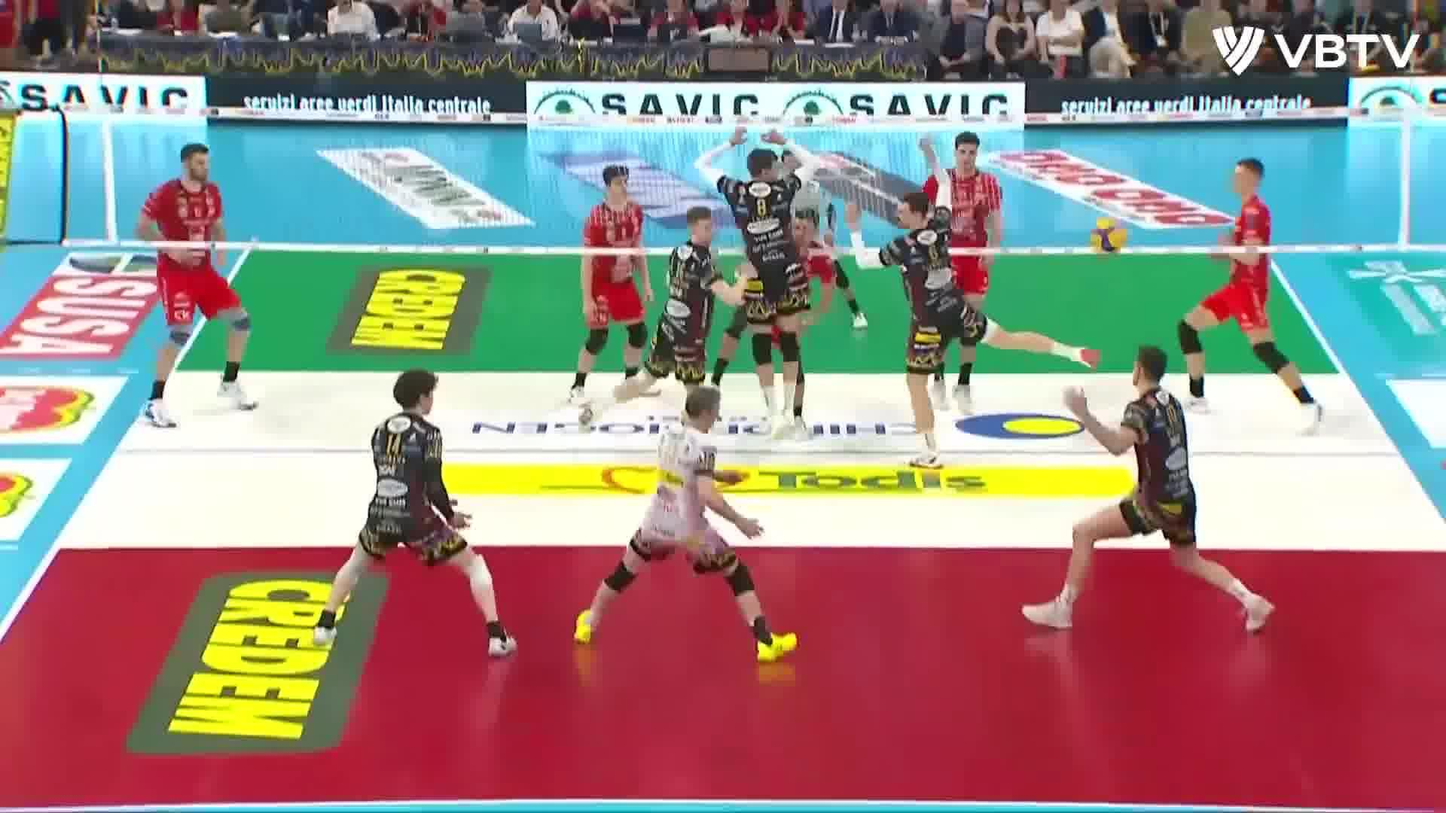balls: (1085, 212, 1131, 255)
